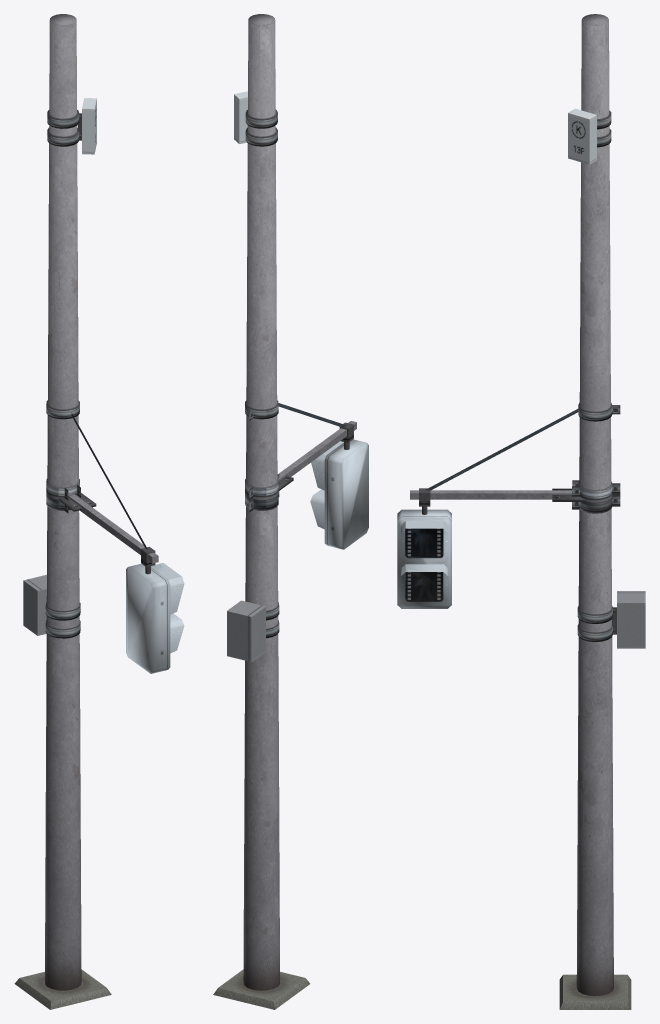
The model's file is Traffic_light_Ped.fbx.
3 views of the same model, side by side, from view 1: azimuth 30°, elevation 25°; view 2: azimuth 150°, elevation 25°; view 3: azimuth 270°, elevation 25° (orthographic).
Visible parts, largest first — view 1: 00_pillar, 40_Ped_light, 85_box_S, 86_box_SS; view 2: 00_pillar, 40_Ped_light, 85_box_S, 86_box_SS; view 3: 00_pillar, 40_Ped_light, 85_box_S, 86_box_SS, 72_light_Ped_green, 70_light_Ped_red.
Boxes of the visible parts, box(x1,y1,x2,y2) form: 00_pillar: box(14, 14, 111, 1009); 40_Ped_light: box(46, 400, 184, 673); 85_box_S: box(23, 574, 80, 638); 86_box_SS: box(47, 98, 96, 154); 00_pillar: box(213, 14, 310, 1009); 40_Ped_light: box(245, 400, 368, 549); 85_box_S: box(227, 600, 279, 661); 86_box_SS: box(234, 91, 277, 146); 00_pillar: box(559, 14, 631, 1009); 40_Ped_light: box(397, 402, 620, 608); 85_box_S: box(577, 591, 645, 648); 86_box_SS: box(568, 108, 611, 164); 72_light_Ped_green: box(405, 572, 443, 601); 70_light_Ped_red: box(405, 528, 443, 557).
Size of the model in its own units: 0.5 by 7.5 by 1.73.
